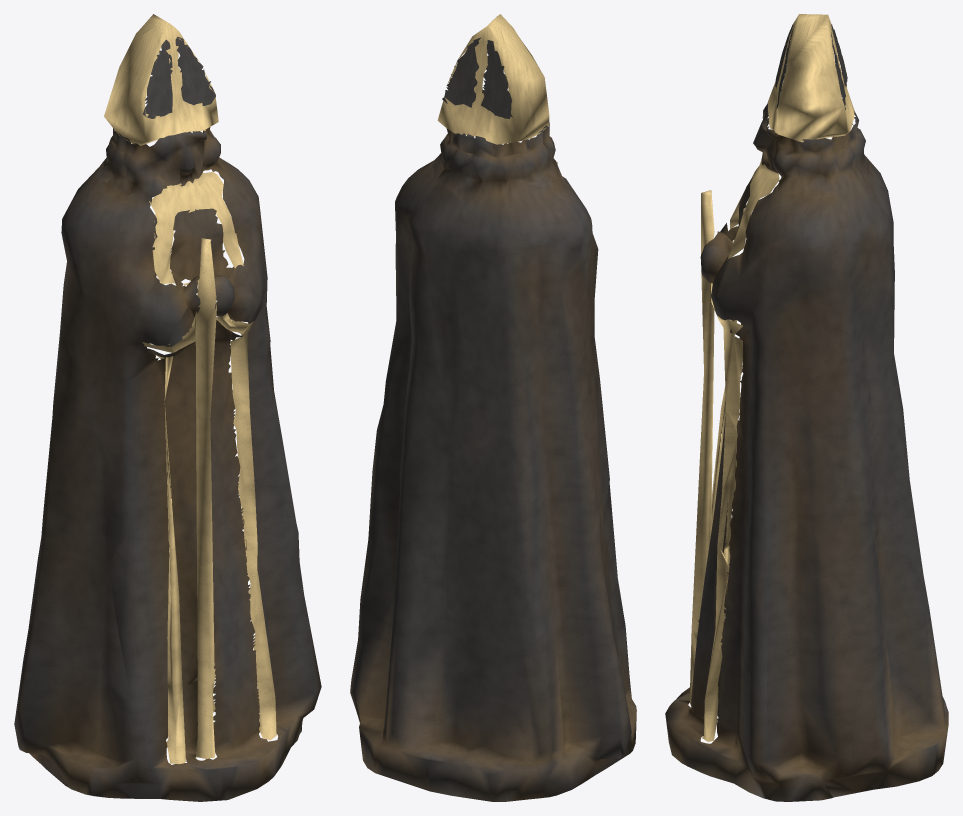
The model's file is Argent_Reliquary_Black_Bishop.glb.
The picture shows the model from 3 angles, left to right: view 1: azimuth 30°, elevation 25°; view 2: azimuth 150°, elevation 25°; view 3: azimuth 270°, elevation 25°; orthographic projection.
Visible parts, largest first — view 1: Argent Reliquary – Black Bishop; view 2: Argent Reliquary – Black Bishop; view 3: Argent Reliquary – Black Bishop.
Part boxes in pixels (x1,y1,x2,y2): Argent Reliquary – Black Bishop: [14, 14, 321, 801]; Argent Reliquary – Black Bishop: [350, 14, 636, 801]; Argent Reliquary – Black Bishop: [665, 14, 948, 801].
Bounding box in the file's own units: 0.0311 × 0.0805 × 0.0282.
Materials: 2 (2 with a texture image).
